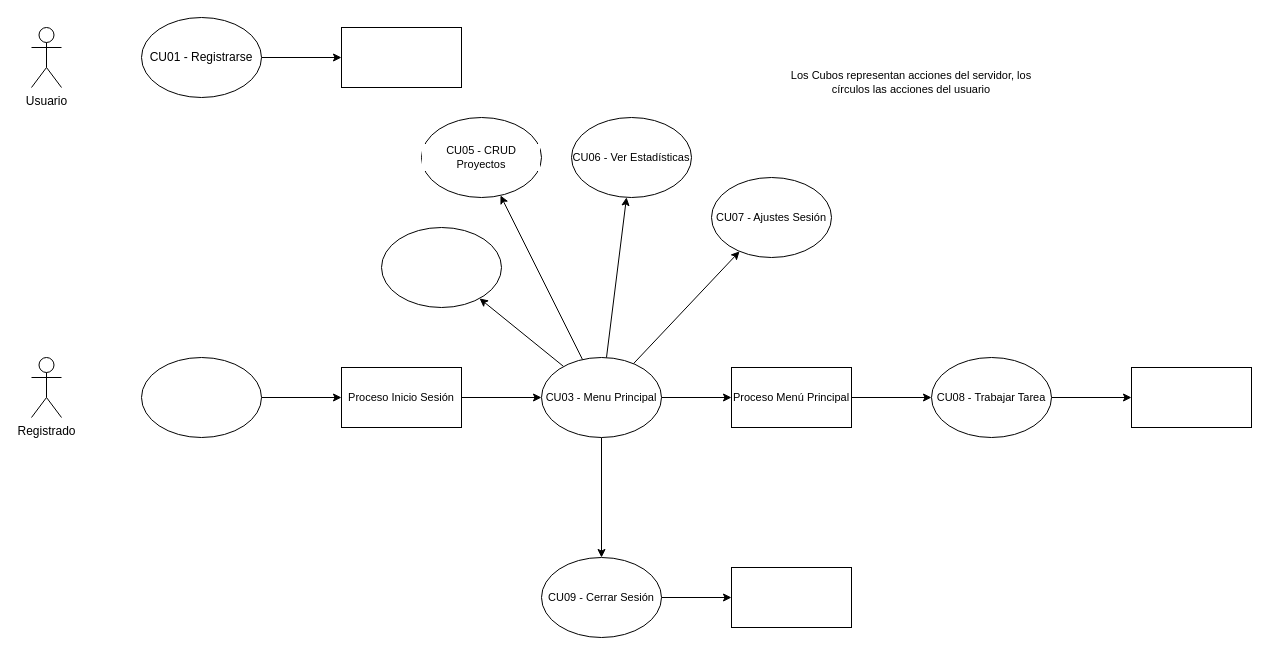
The diagram is 1269 pixels wide and 655 high, and some of its shapes have lost their labels. Each missing label, with the box of its shape:
CU02 - Iniciar Sesión: (140, 356, 262, 438)
CU04 - CRUD Tareas: (380, 226, 502, 308)
PR-01 Proceso Registro: (340, 26, 462, 88)
Proceso Cerrar Sesión: (730, 566, 852, 628)
Proceso Pomodoro: (1130, 366, 1252, 428)
